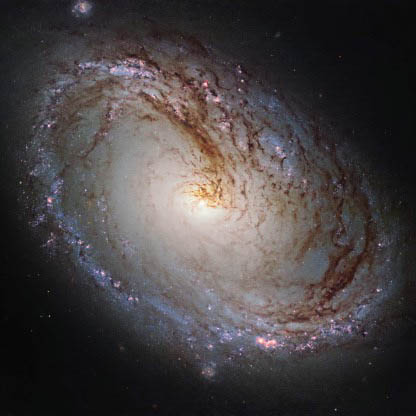Messier 96: (19, 4, 400, 373)
